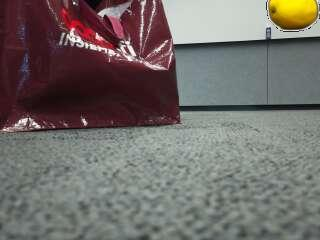lemon: (269, 0, 317, 30)
